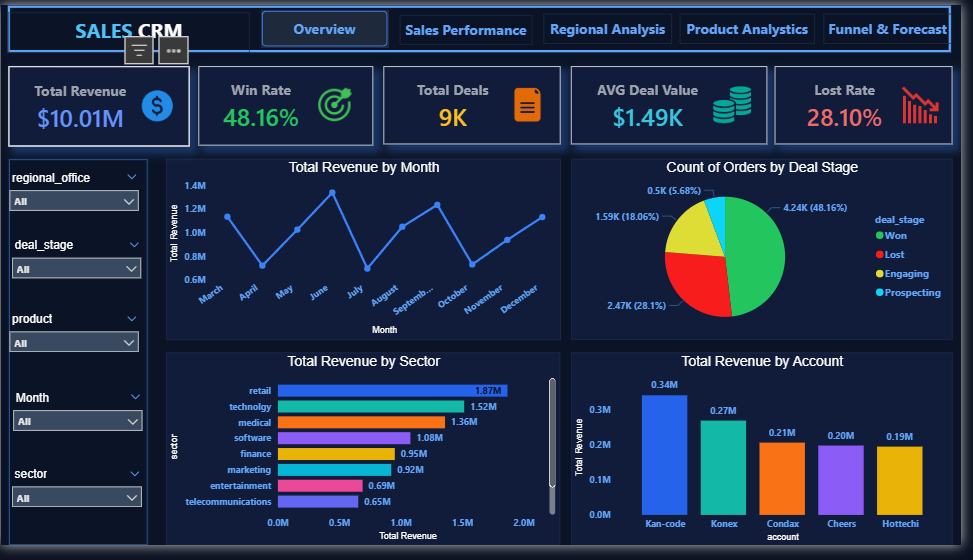

Layout of this report page (visuals, bound fields, positions):
{"tool":"powerbi","page":{"name":"Overview","canvas":[1280,720],"ordinal":0},"visuals":[{"type":"actionButton","box":[9,0,1259.4,64.2],"z":0},{"type":"textbox","box":[10,10,321.7,53.3],"z":1000},{"type":"actionButton","title":"Product Analysis","box":[347.1,7.1,170,50],"z":2000},{"type":"shape","box":[10.4,204.4,186.5,516.3],"z":3000},{"type":"slicer","fields":{"Values":["public sales_teams.regional_office"]},"box":[6.9,216.8,186.6,81],"z":4000},{"type":"slicer","fields":{"Values":["public sales_pipeline.deal_stage"]},"box":[9.6,307.4,186.6,81],"z":5000},{"type":"slicer","fields":{"Values":["public products.product"]},"box":[6.9,404.8,186.6,81],"z":6000},{"type":"lineChart","fields":{"Y":["public sales_pipeline.Total Value"],"Category":["public sales_pipeline.close_date.Variation.Date Hierarchy.Month"]},"box":[219.4,204.4,526.7,241.7],"z":7000},{"type":"pieChart","title":"Count of Orders by Deal Stage","fields":{"Category":["public sales_pipeline.deal_stage"],"Y":["CountNonNull(public sales_pipeline.opportunity_id)"]},"box":[760,204.3,508.6,241.4],"z":8000},{"type":"clusteredBarChart","title":"Total Revenue by Sector","fields":{"Y":["public sales_pipeline.Total Value"],"Category":["public accounts.sector"]},"box":[220,462.9,525.7,257.1],"z":9000},{"type":"clusteredColumnChart","title":"Total Revenue by Account","fields":{"Y":["public sales_pipeline.Total Revenue"],"Category":["public sales_pipeline.account"]},"box":[760,462.9,508.6,258.6],"z":10000},{"type":"actionButton","title":"Product Analysis","box":[722.9,11.4,171.4,40],"z":11000},{"type":"actionButton","title":"Product Analysis","box":[904.3,11.4,180,40],"z":12000},{"type":"actionButton","title":"Product Analysis","box":[531.4,12.9,177.1,40],"z":13000},{"type":"actionButton","title":"Product Analysis","box":[1097.1,11.4,171.4,40],"z":14000},{"type":"slicer","fields":{"Values":["public sales_pipeline.engage_date.Variation.Date Hierarchy.Month"]},"box":[11,510.5,186.6,81],"z":15000},{"type":"slicer","fields":{"Values":["public accounts.sector"]},"box":[10.2,611.1,187.2,80],"z":16000},{"type":"cardVisual","fields":{"Data":["public sales_pipeline.Total Value"]},"box":[10,81.4,241.4,107.1],"z":17000},{"type":"cardVisual","fields":{"Data":["public sales_pipeline.Win Rate"]},"box":[262.9,81.4,232.9,105.7],"z":18000},{"type":"cardVisual","fields":{"Data":["public sales_pipeline.Total Deals"]},"box":[510,81.4,235.7,104.3],"z":19000},{"type":"cardVisual","fields":{"Data":["public sales_pipeline.Average Deal Value"]},"box":[760,81.4,261.4,104.3],"z":20000},{"type":"cardVisual","fields":{"Data":["public sales_pipeline.Lost Rate"]},"box":[1031.4,81.4,237.1,104.3],"z":21000}]}

Visuals, with their boxes in screenshot pixels (x1, y1, x2, y2), scaled from the page's 1280x720 canvas onto the 973x560 screenshot:
actionButton: 7 0 964 50
textbox: 8 8 252 49
"Product Analysis" actionButton: 264 6 393 44
shape: 8 159 150 559
slicer - public sales_teams.regional_office: 5 169 147 232
slicer - public sales_pipeline.deal_stage: 7 239 149 302
slicer - public products.product: 5 315 147 378
lineChart - public sales_pipeline.Total Value x public sales_pipeline.close_date.Variation.Date Hierarchy.Month: 167 159 567 347
"Count of Orders by Deal Stage" pieChart: 578 159 964 347
"Total Revenue by Sector" clusteredBarChart: 167 360 567 559
"Total Revenue by Account" clusteredColumnChart: 578 360 964 559
"Product Analysis" actionButton: 550 9 680 40
"Product Analysis" actionButton: 687 9 824 40
"Product Analysis" actionButton: 404 10 539 41
"Product Analysis" actionButton: 834 9 964 40
slicer - public sales_pipeline.engage_date.Variation.Date Hierarchy.Month: 8 397 150 460
slicer - public accounts.sector: 8 475 150 538
cardVisual - public sales_pipeline.Total Value: 8 63 191 147
cardVisual - public sales_pipeline.Win Rate: 200 63 377 146
cardVisual - public sales_pipeline.Total Deals: 388 63 567 144
cardVisual - public sales_pipeline.Average Deal Value: 578 63 776 144
cardVisual - public sales_pipeline.Lost Rate: 784 63 964 144
